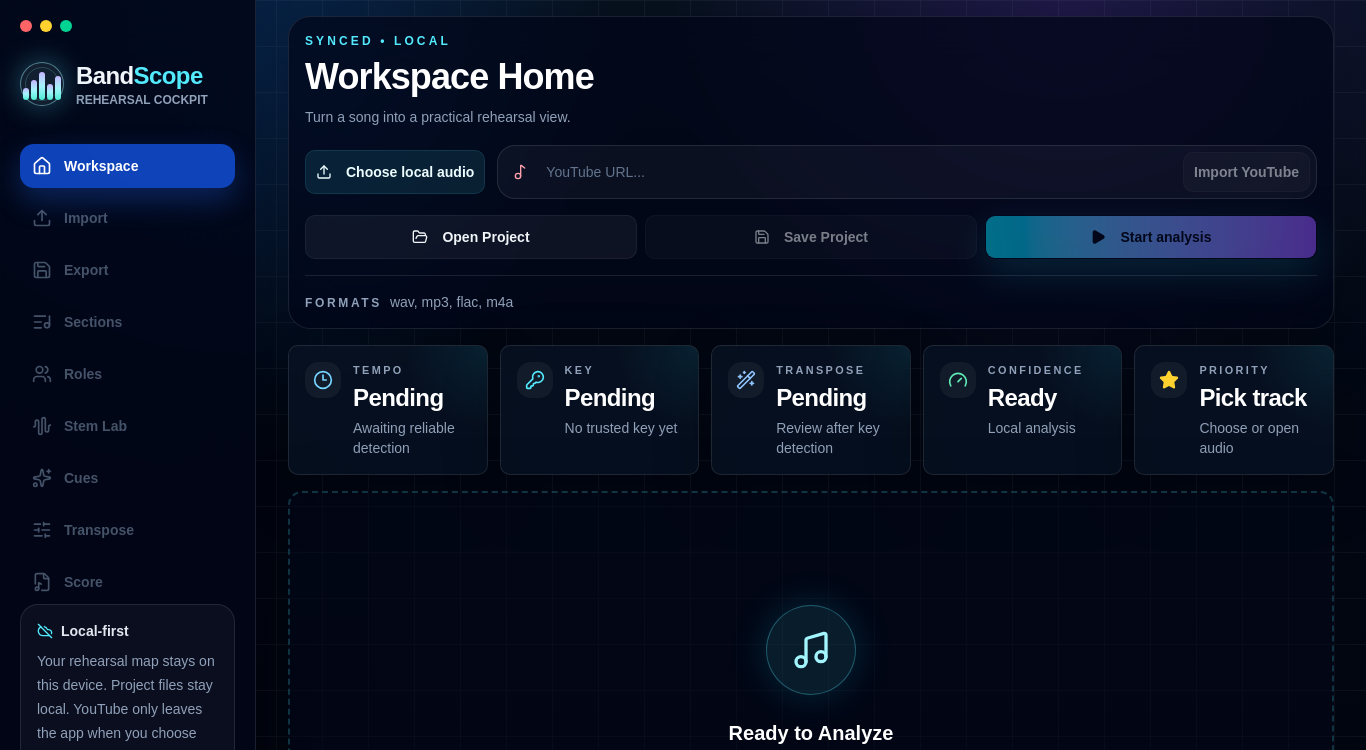
App › summarizes confidence from the lowest-confidence loaded section
Click the button "Open Project": click(471, 237) [305, 215, 637, 259]
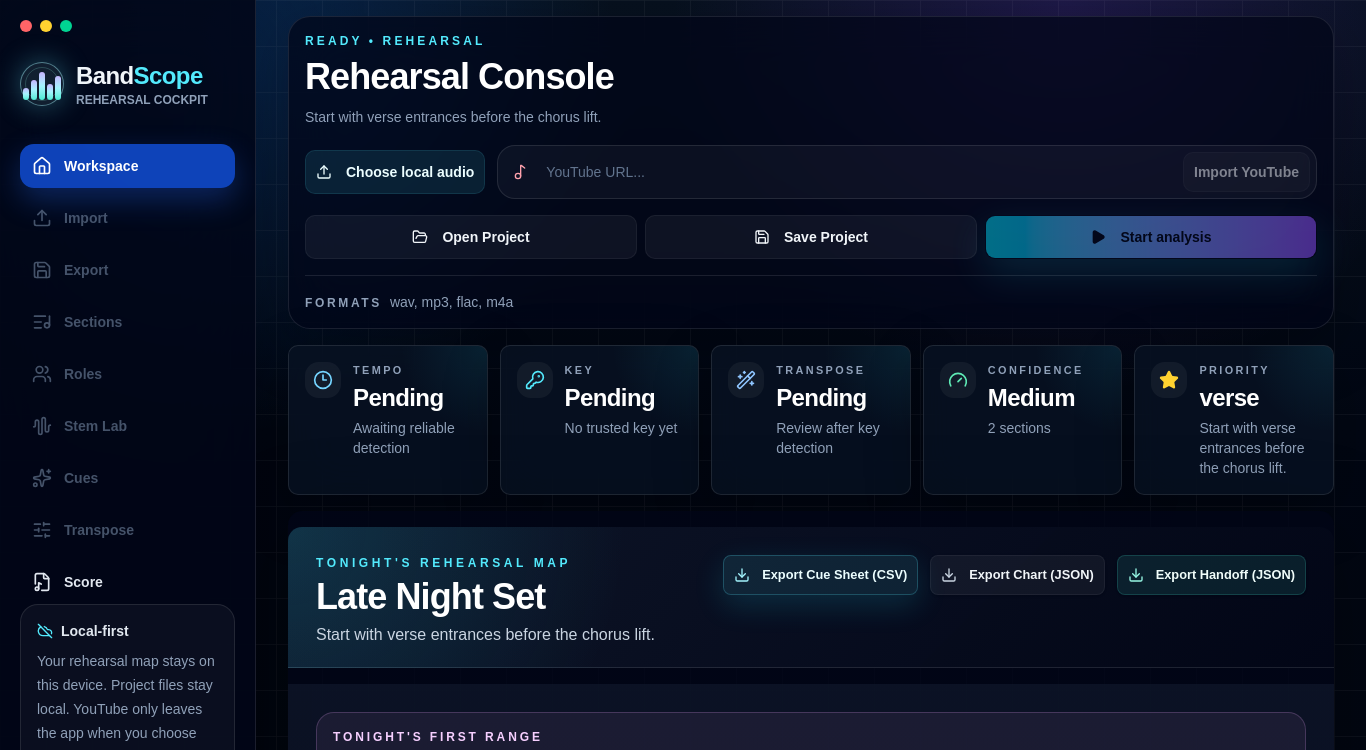
Now the text "Medium" is shown, box [988, 382, 1084, 414]
Now the text "2 sections" is shown, box [988, 420, 1051, 436]
